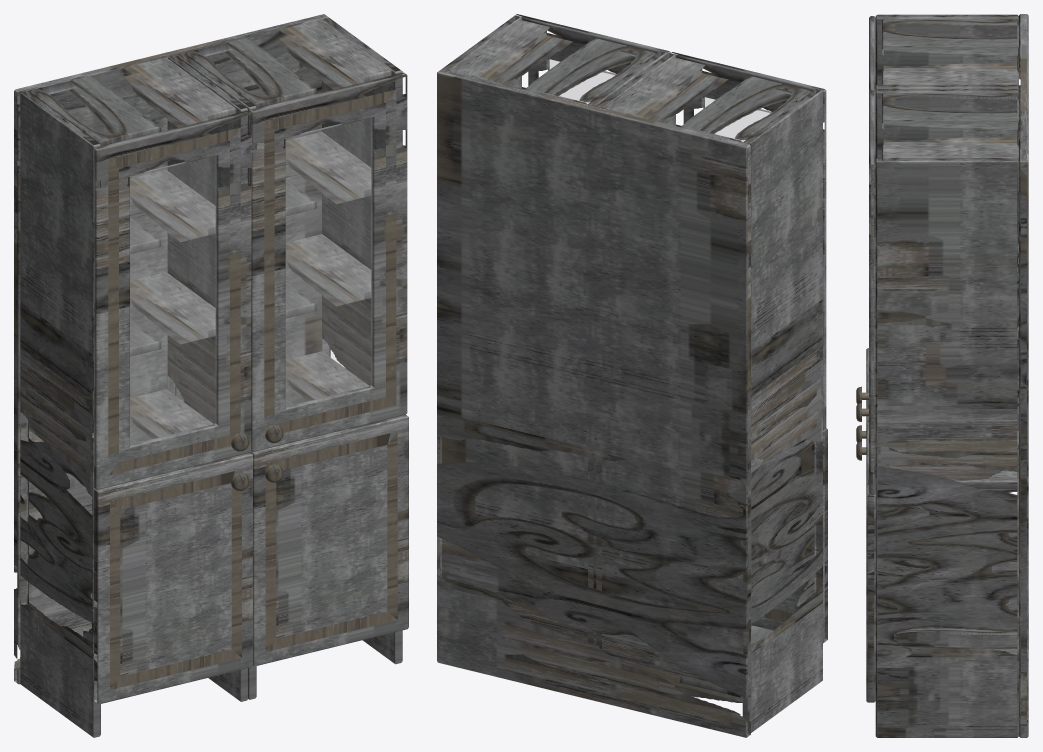
Rendered from TallCabinet.fbx.
3 views of the same model, side by side, from view 1: azimuth 30°, elevation 25°; view 2: azimuth 150°, elevation 25°; view 3: azimuth 270°, elevation 25° (orthographic). The views are drawn at different scales.
Parts seen in each view (by area): view 1: Cabinet_Side_A.003_Material_0, LongLowerLeftCabinet, LongLowerRightCabinet, LongUpperLeftCabinet, LongUpperRightCabinet, Cabinet_FrontGlass_B.005_glass_0.001, Cabinet_FrontGlass_B.005_glass_0, TallCabinet, Cabinet_Side_A.005_Material_0, Cabinet_Side_A.004_Material_0, Cabinet_Shelf_D.003_Material_0, Cabinet_Shelf_D.002_Material_0 (+6 smaller); view 2: TallCabinet, Cabinet_Side_A.003_Material_0, Cabinet_Shelf_D.003_Material_0, Cabinet_Shelf_D.002_Material_0, LongUpperLeftCabinet, Cabinet_Side_A.005_Material_0, LongLowerLeftCabinet, LongUpperRightCabinet, Cabinet_Side_A.004_Material_0, Cabinet_Shelf_D.010_Material_0; view 3: Cabinet_Side_A.004_Material_0, Cabinet_Side_A.005_Material_0, TallCabinet, Cabinet_Shelf_D.002_Material_0, Cabinet_Shelf_D.003_Material_0, Cabinet_Side_A.003_Material_0, LongUpperRightCabinet, LongLowerRightCabinet, Cabinet_Shelf_D.011_Material_0, Cabinet_Shelf_D.007_Material_0, LongUpperLeftCabinet.
Boxes of the visible parts, x1,y1,x2,y2 form: Cabinet_Side_A.003_Material_0: [20, 91, 100, 737]; LongLowerLeftCabinet: [94, 453, 252, 704]; LongLowerRightCabinet: [250, 415, 408, 666]; LongUpperLeftCabinet: [94, 110, 251, 489]; LongUpperRightCabinet: [249, 72, 407, 451]; Cabinet_FrontGlass_B.005_glass_0.001: [286, 118, 372, 406]; Cabinet_FrontGlass_B.005_glass_0: [130, 156, 216, 444]; TallCabinet: [14, 14, 328, 684]; Cabinet_Side_A.005_Material_0: [167, 53, 256, 701]; Cabinet_Side_A.004_Material_0: [322, 17, 402, 664]; Cabinet_Shelf_D.003_Material_0: [185, 19, 391, 108]; Cabinet_Shelf_D.002_Material_0: [29, 57, 236, 146]; TallCabinet: [437, 69, 750, 737]; Cabinet_Side_A.003_Material_0: [742, 89, 822, 732]; Cabinet_Shelf_D.003_Material_0: [449, 19, 655, 104]; Cabinet_Shelf_D.002_Material_0: [604, 57, 810, 142]; LongUpperLeftCabinet: [671, 52, 826, 430]; Cabinet_Side_A.005_Material_0: [587, 51, 675, 648]; LongLowerLeftCabinet: [751, 428, 827, 643]; LongUpperRightCabinet: [515, 14, 670, 89]; Cabinet_Side_A.004_Material_0: [442, 15, 521, 88]; Cabinet_Shelf_D.010_Material_0: [616, 625, 773, 697]; Cabinet_Side_A.004_Material_0: [875, 158, 1018, 737]; Cabinet_Side_A.005_Material_0: [875, 84, 1018, 647]; TallCabinet: [1019, 14, 1028, 737]; Cabinet_Shelf_D.002_Material_0: [882, 18, 1018, 85]; Cabinet_Shelf_D.003_Material_0: [882, 92, 1018, 160]; Cabinet_Side_A.003_Material_0: [875, 14, 1018, 572]; LongUpperRightCabinet: [869, 90, 875, 494]; LongLowerRightCabinet: [866, 422, 875, 702]; Cabinet_Shelf_D.011_Material_0: [894, 628, 1017, 654]; Cabinet_Shelf_D.007_Material_0: [954, 431, 1018, 489]; LongUpperLeftCabinet: [869, 16, 875, 91].
Bounding box in the file's own units: 111 × 200 × 54.09.
